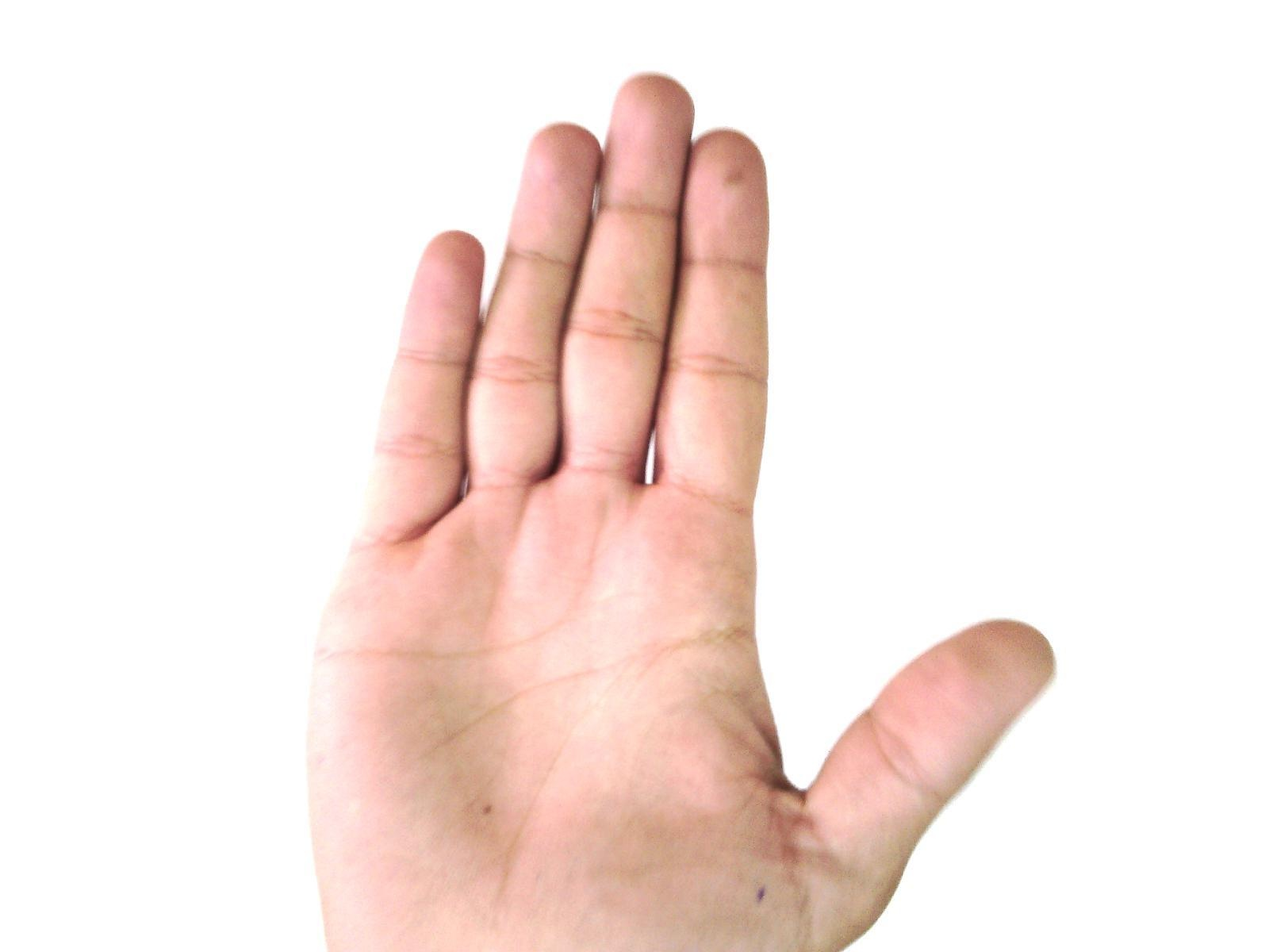open_palm: (301, 71, 1060, 951)
